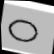no answer: (4, 15, 41, 47)
